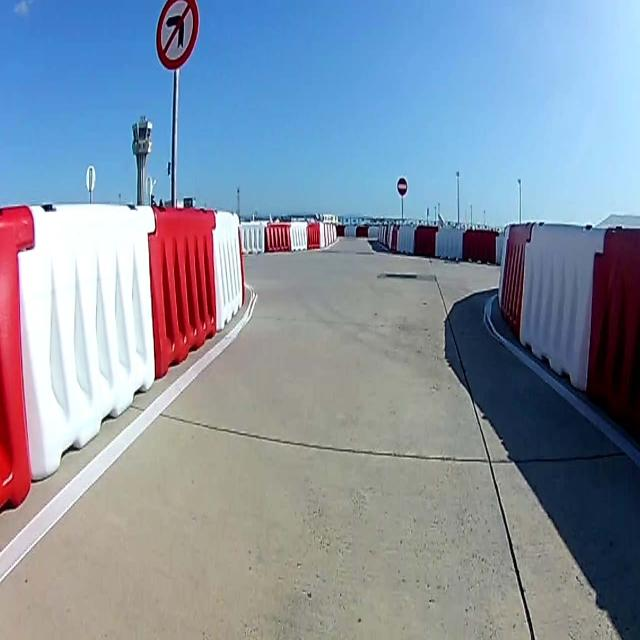girisyok: (397, 178, 407, 194)
soladonulmez: (156, 1, 200, 67)
